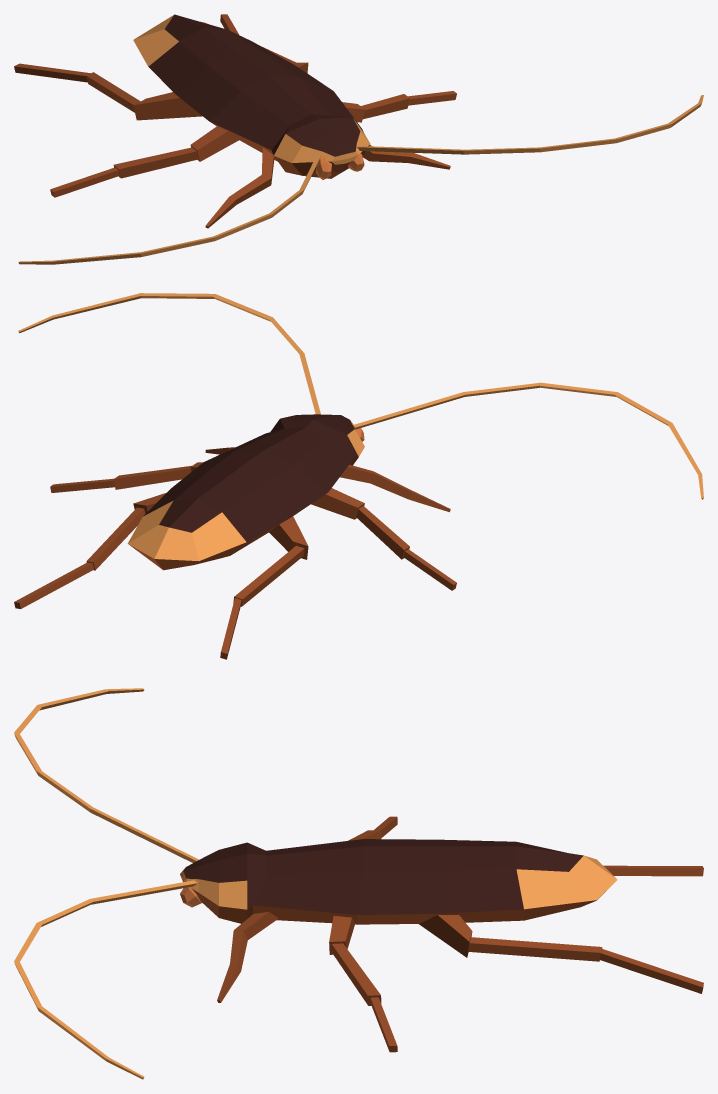
File: Mesh_Cockroach.gltf
3 renders of one model, top to bottom at view 1: azimuth 30°, elevation 25°; view 2: azimuth 150°, elevation 25°; view 3: azimuth 270°, elevation 25°, orthographic. The views are drawn at different scales.
Parts seen in each view (by area): view 1: node-0; view 2: node-0; view 3: node-0.
Part boxes in pixels (bbox=[...]): node-0: bbox=[14, 14, 703, 264]; node-0: bbox=[14, 293, 703, 659]; node-0: bbox=[14, 688, 703, 1079].
Bounding box in the file's own units: 96.67 × 10.85 × 72.36.
1 material, 1 textured.
